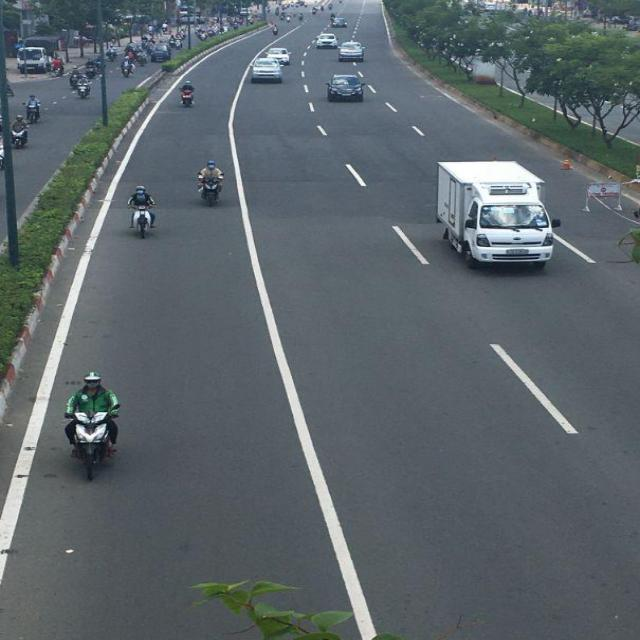car: (326, 74, 364, 101), (252, 57, 286, 84), (338, 43, 364, 63), (268, 48, 289, 66), (316, 36, 338, 51), (333, 17, 348, 28)
motorcycle: (67, 412, 116, 479), (196, 172, 223, 208), (11, 116, 30, 148), (132, 208, 152, 238), (26, 94, 42, 122), (180, 86, 196, 106), (122, 56, 136, 76)
truck: (436, 160, 556, 270)
